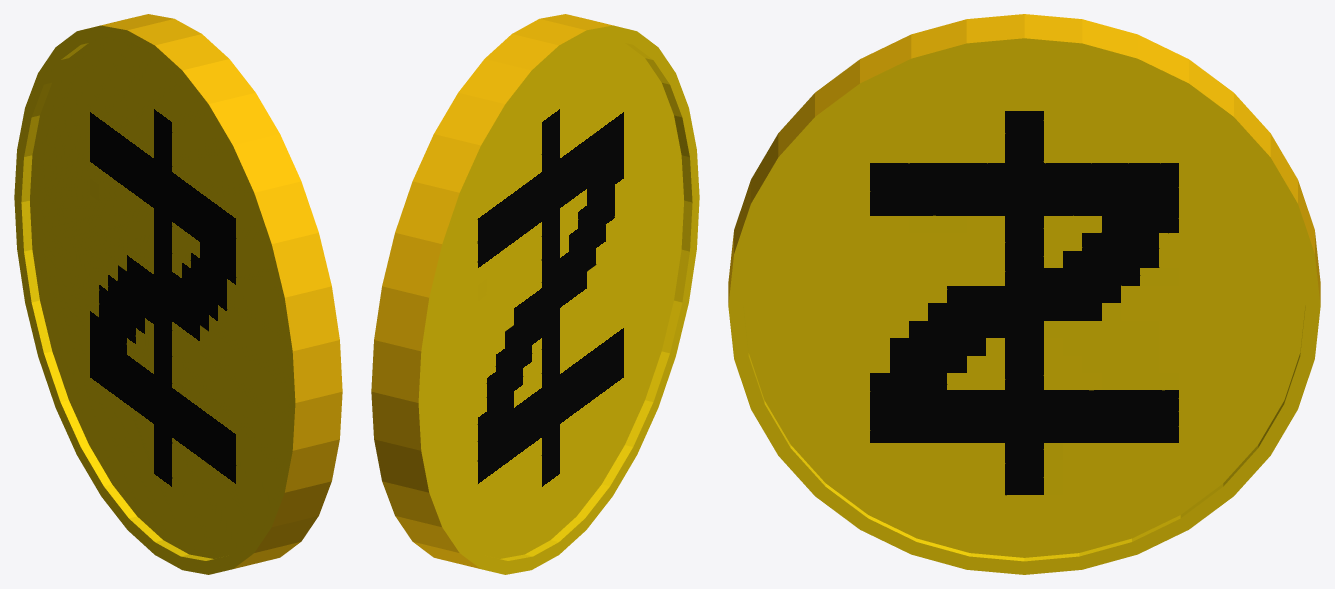
Rendered from Moeda.fbx.
The picture shows the model from 3 angles, left to right: view 1: azimuth 30°, elevation 25°; view 2: azimuth 150°, elevation 25°; view 3: azimuth 270°, elevation 25°; orthographic projection. The views are drawn at different scales.
Visible parts, largest first — view 1: Cylinder.001; view 2: Cylinder.001; view 3: Cylinder.001.
Boxes of the visible parts, left/top/right/bottom form: Cylinder.001: left=14, top=14, right=342, bottom=574; Cylinder.001: left=371, top=14, right=699, bottom=574; Cylinder.001: left=728, top=14, right=1320, bottom=574.
Size of the model in its own units: 19.39 by 200 by 200.
